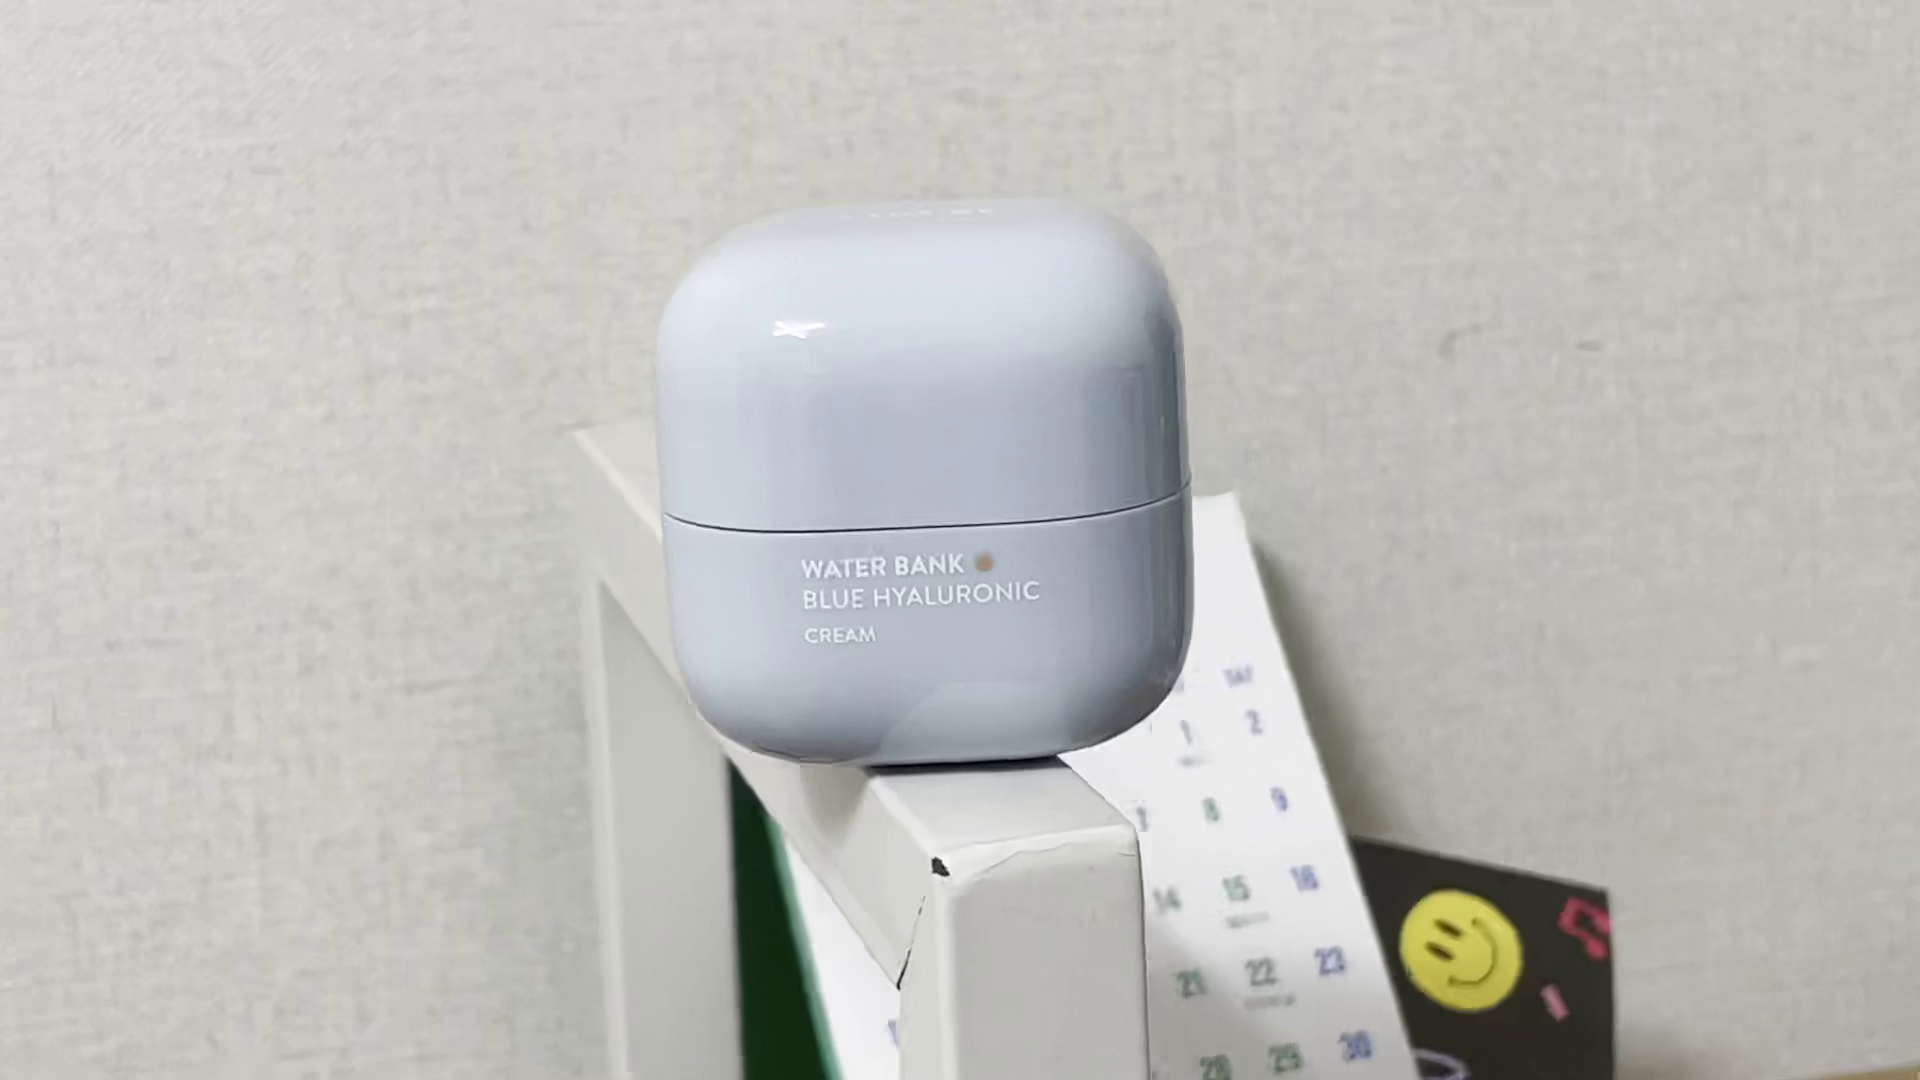cream: (647, 193, 1203, 770)
